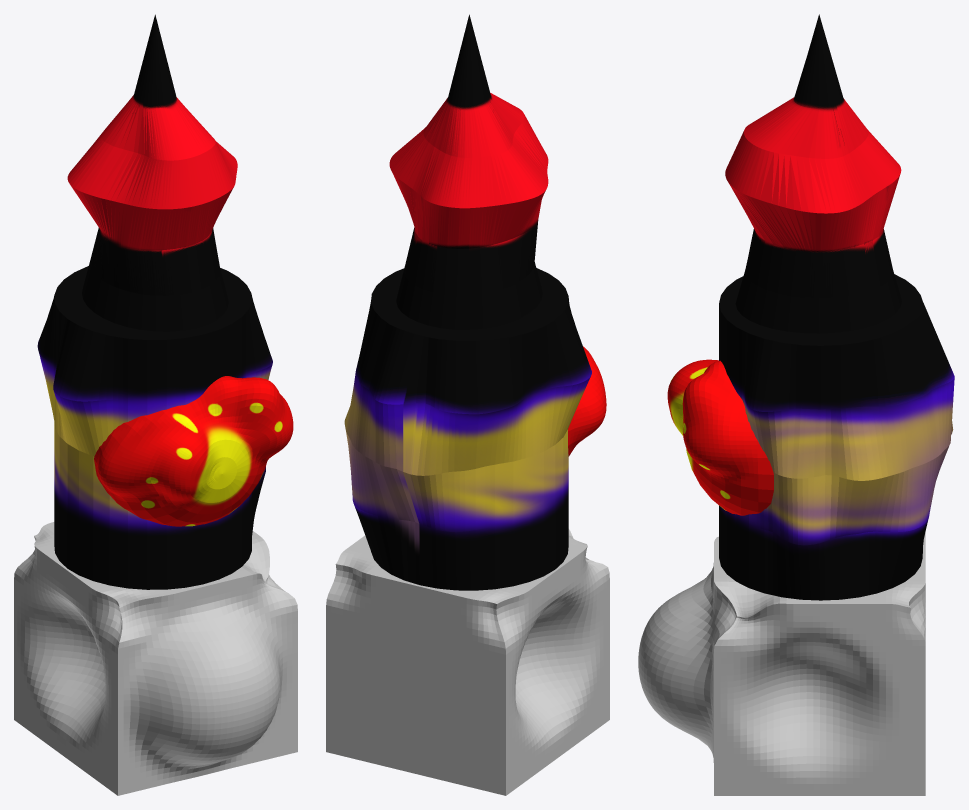
The model's file is Compiler_Lol.fbx.
3 views of the same model, side by side, from view 1: azimuth 30°, elevation 25°; view 2: azimuth 150°, elevation 25°; view 3: azimuth 270°, elevation 25° (orthographic). The views are drawn at different scales.
Visible parts, largest first — view 1: Cube, Cylinder, Cone, Sphere; view 2: Cylinder, Cube, Cone, Sphere; view 3: Cylinder, Cube, Cone, Sphere.
Boxes of the visible parts, x1,y1,x2,y2 form: Cube: (14, 522, 297, 795); Cylinder: (37, 266, 272, 589); Cone: (67, 14, 237, 331); Sphere: (94, 376, 293, 526); Cylinder: (344, 268, 591, 590); Cube: (326, 529, 609, 795); Cone: (389, 14, 548, 329); Sphere: (568, 346, 606, 456); Cylinder: (719, 274, 954, 600); Cube: (638, 533, 925, 795); Cone: (725, 14, 901, 333); Sphere: (667, 359, 773, 515).
Bounding box in the file's own units: 232 × 767 × 299.
